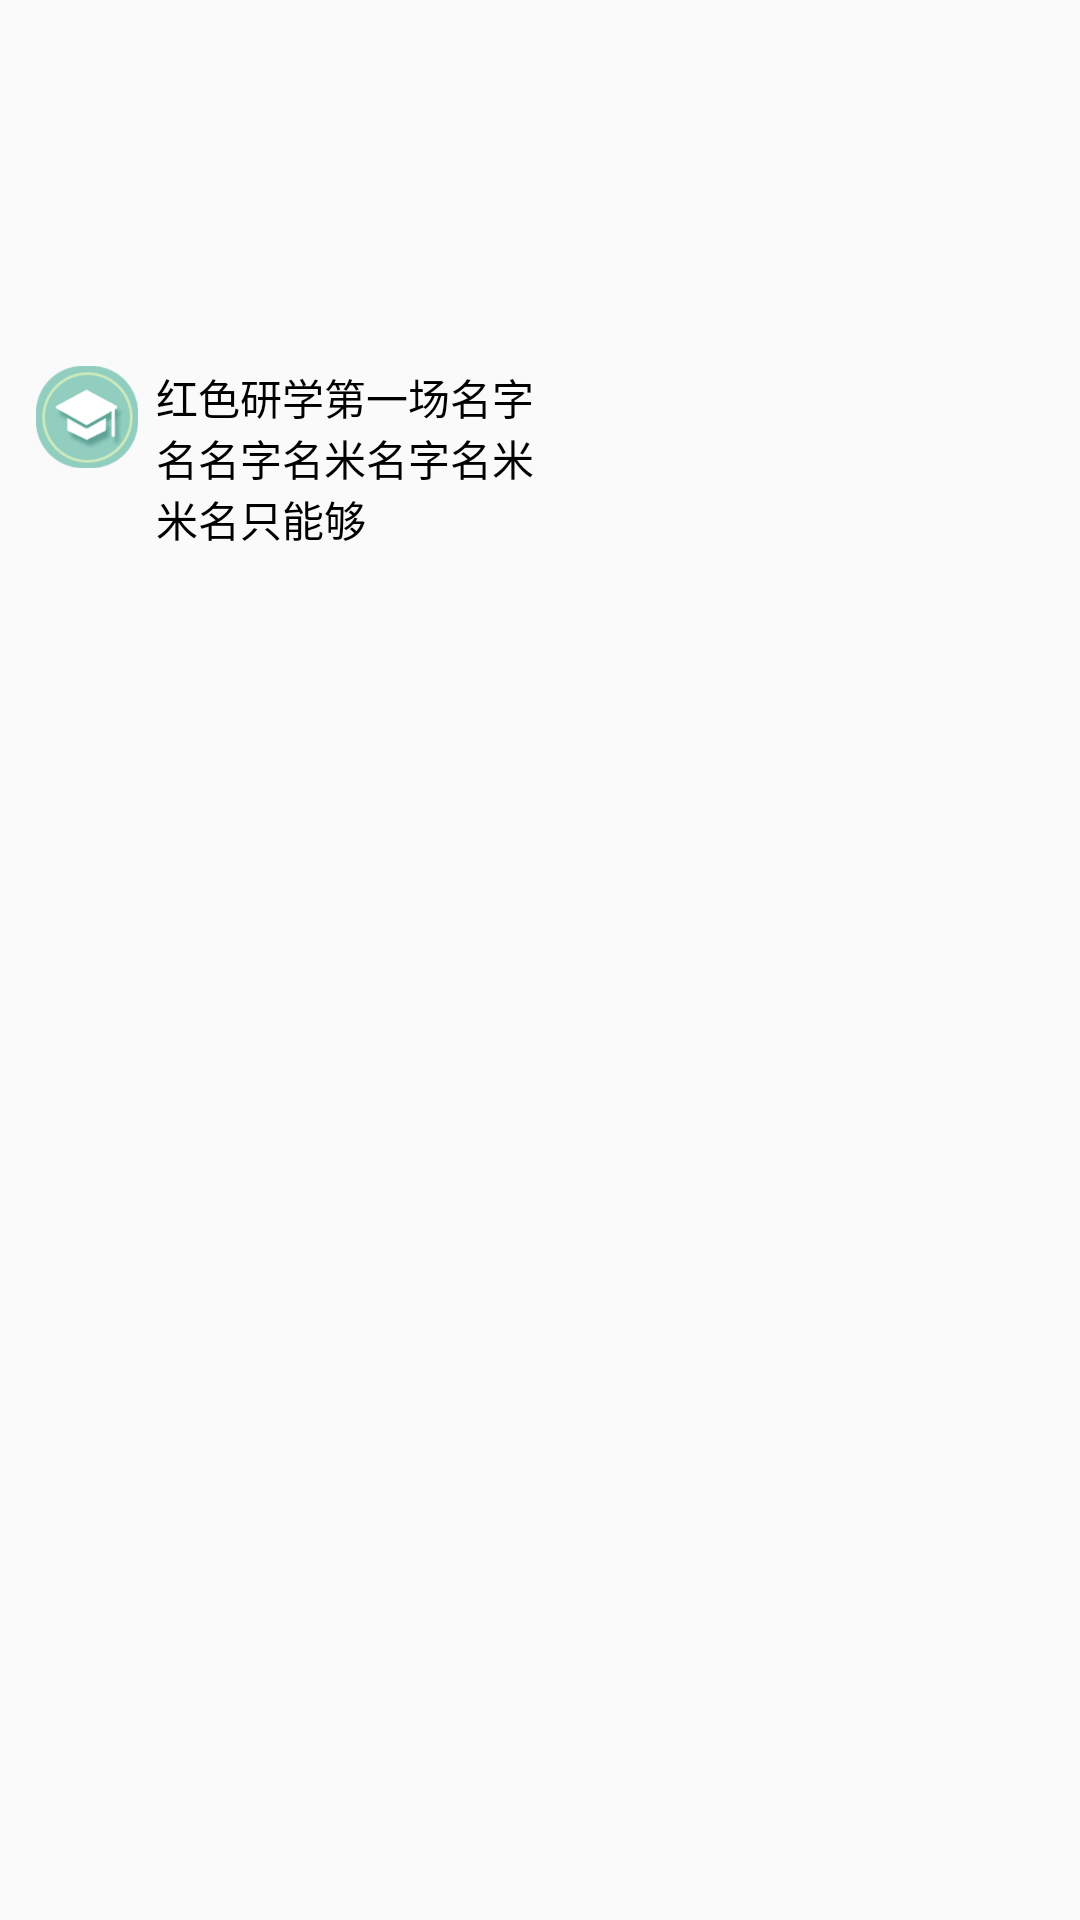

Named icons in this screenshot (1080px×1920px) and their centers, point (x, y):
education: point (87, 417)
